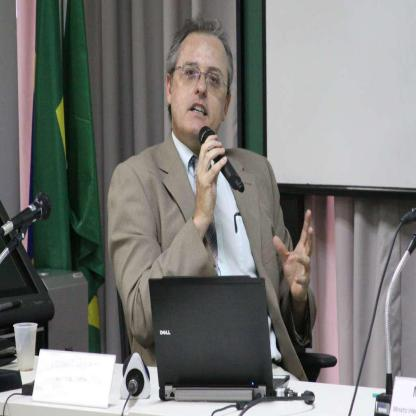board: (145, 264, 285, 416)
